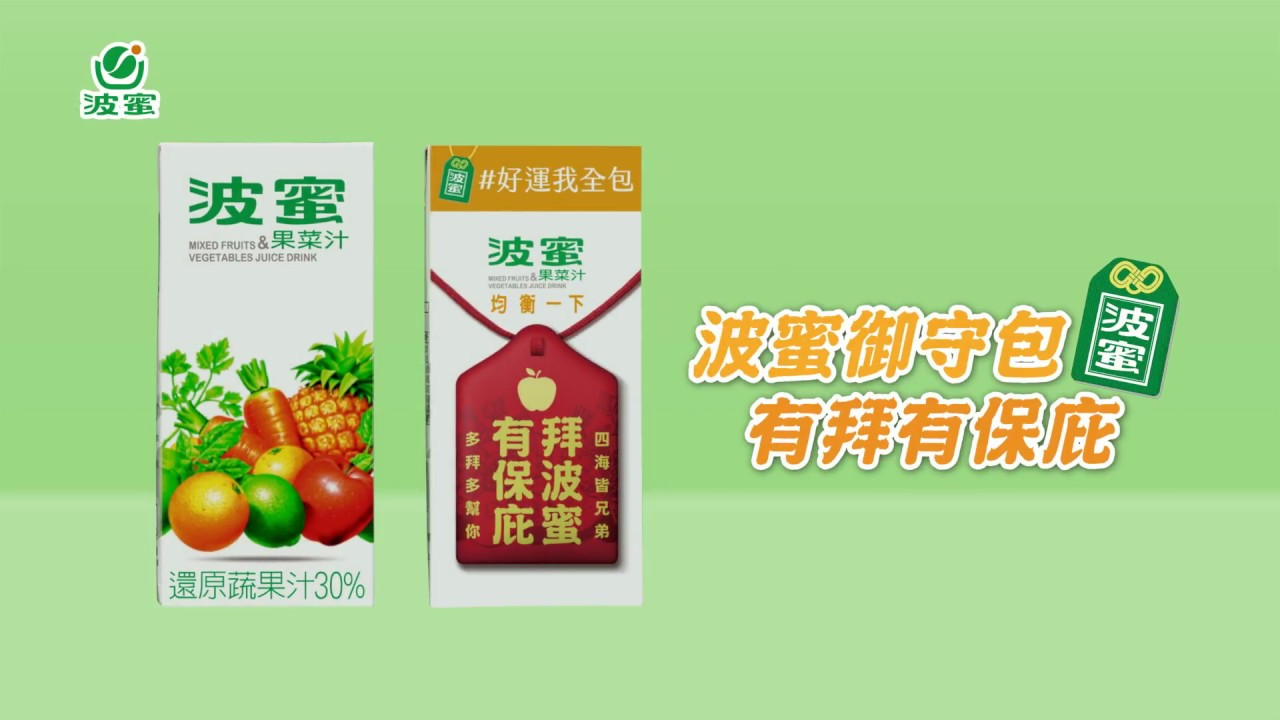vegetables juice: (141, 114, 388, 628)
